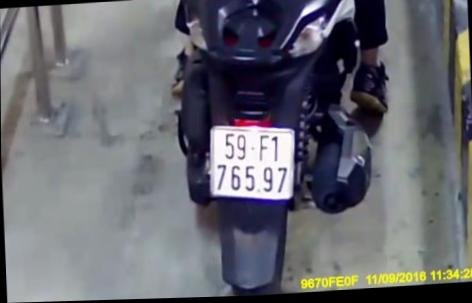LP: (205, 120, 307, 213)
